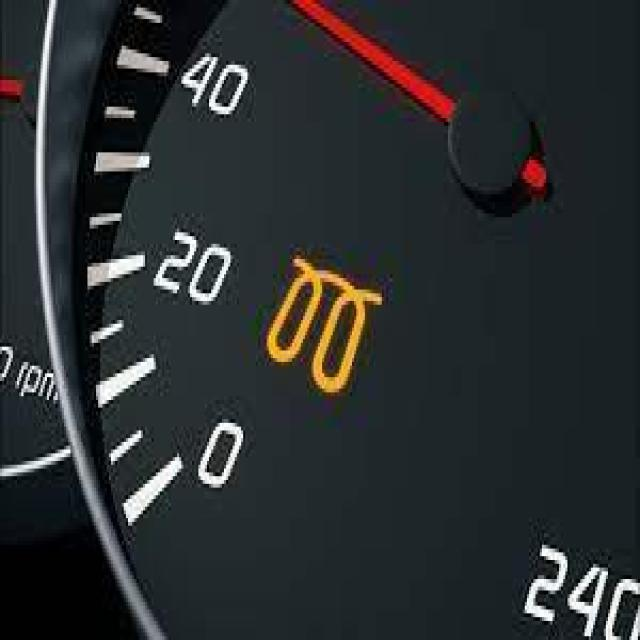kontrolka: (257, 216, 400, 418)
